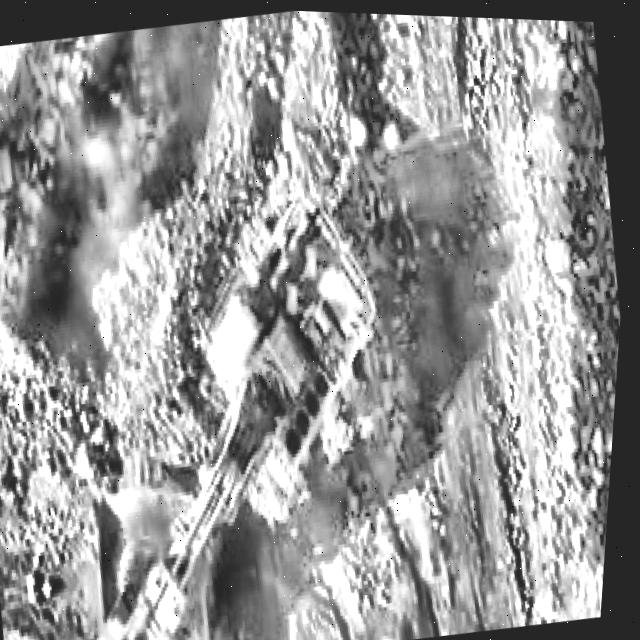excavator: (51, 197, 437, 640)
